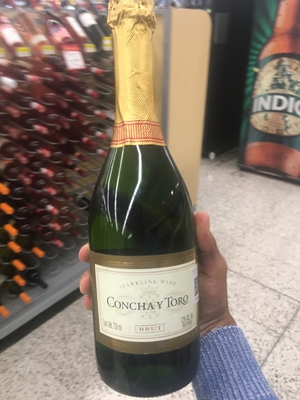brut: (78, 12, 213, 386)
